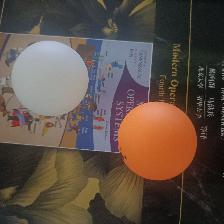WhiteBall: (11, 40, 88, 116)
YellowBall: (117, 101, 196, 180)
